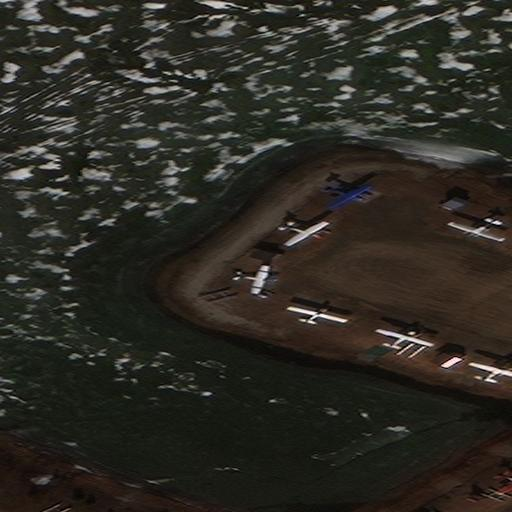Small Civil Transport: (232, 265, 278, 294), (447, 219, 501, 242), (283, 222, 330, 247), (289, 305, 349, 324), (327, 186, 373, 210), (376, 328, 434, 347), (470, 361, 512, 381), (498, 473, 512, 494)
